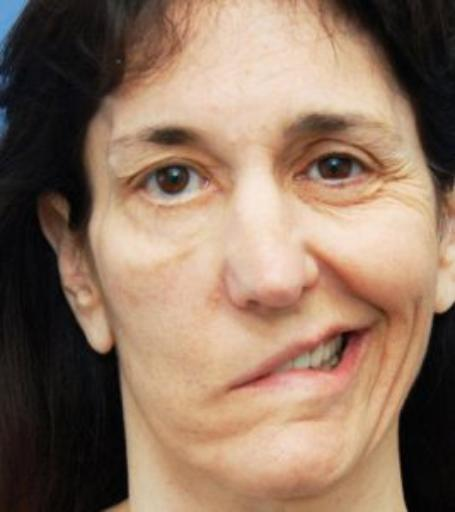left_eye: (293, 149, 380, 189)
left_lip_corner: (360, 306, 389, 345)
right_eye: (128, 164, 223, 210)
right_lip_corner: (214, 371, 270, 398)
